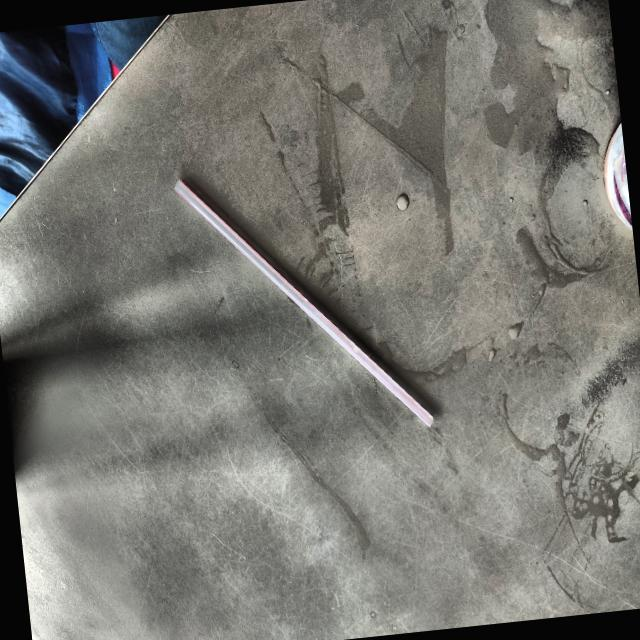plastic straw: (174, 180, 432, 426)
